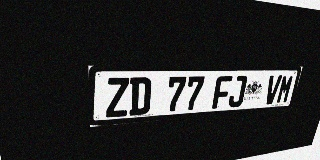7: (165, 76, 187, 113), (183, 76, 205, 111)
D: (129, 77, 152, 116)
F: (212, 76, 233, 109)
J: (227, 76, 248, 108)
M: (276, 75, 295, 104)
V: (263, 75, 282, 105)
Z: (106, 77, 129, 118)
